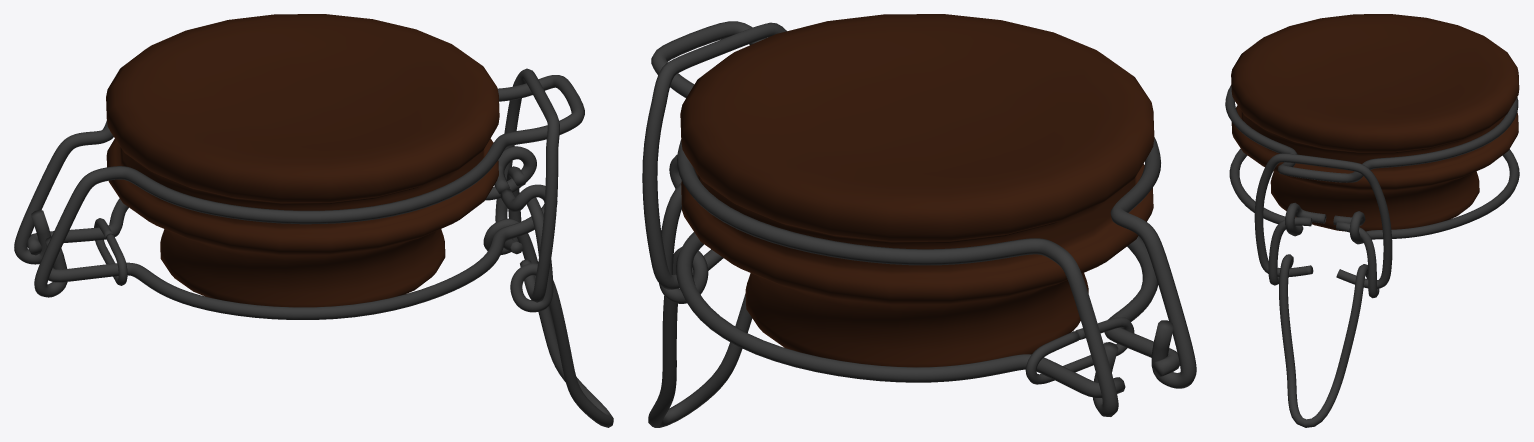
File: VP_Kitchen_Jar_3_Lid.FBX
The picture shows the model from 3 angles, left to right: view 1: azimuth 30°, elevation 25°; view 2: azimuth 150°, elevation 25°; view 3: azimuth 270°, elevation 25°; orthographic projection. The views are drawn at different scales.
Visible parts, largest first — view 1: VP_Kitchen_Jar_3_Lid; view 2: VP_Kitchen_Jar_3_Lid; view 3: VP_Kitchen_Jar_3_Lid.
Part boxes in pixels (x1=…): VP_Kitchen_Jar_3_Lid: x1=14, y1=14, x2=613, y2=427; VP_Kitchen_Jar_3_Lid: x1=642, y1=14, x2=1196, y2=427; VP_Kitchen_Jar_3_Lid: x1=1225, y1=14, x2=1519, y2=427.
Size of what is drawn, in the model's own units: 13.08 by 8.87 by 8.82.
